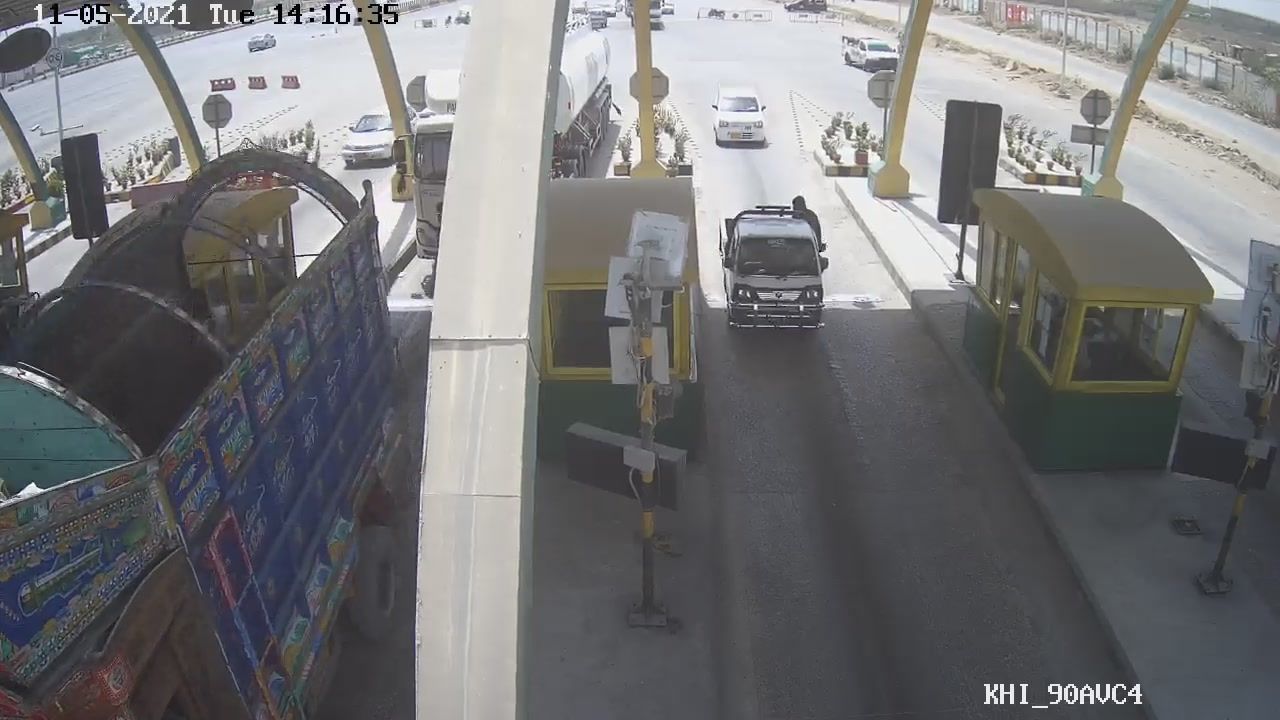F1: (716, 189, 838, 338)
